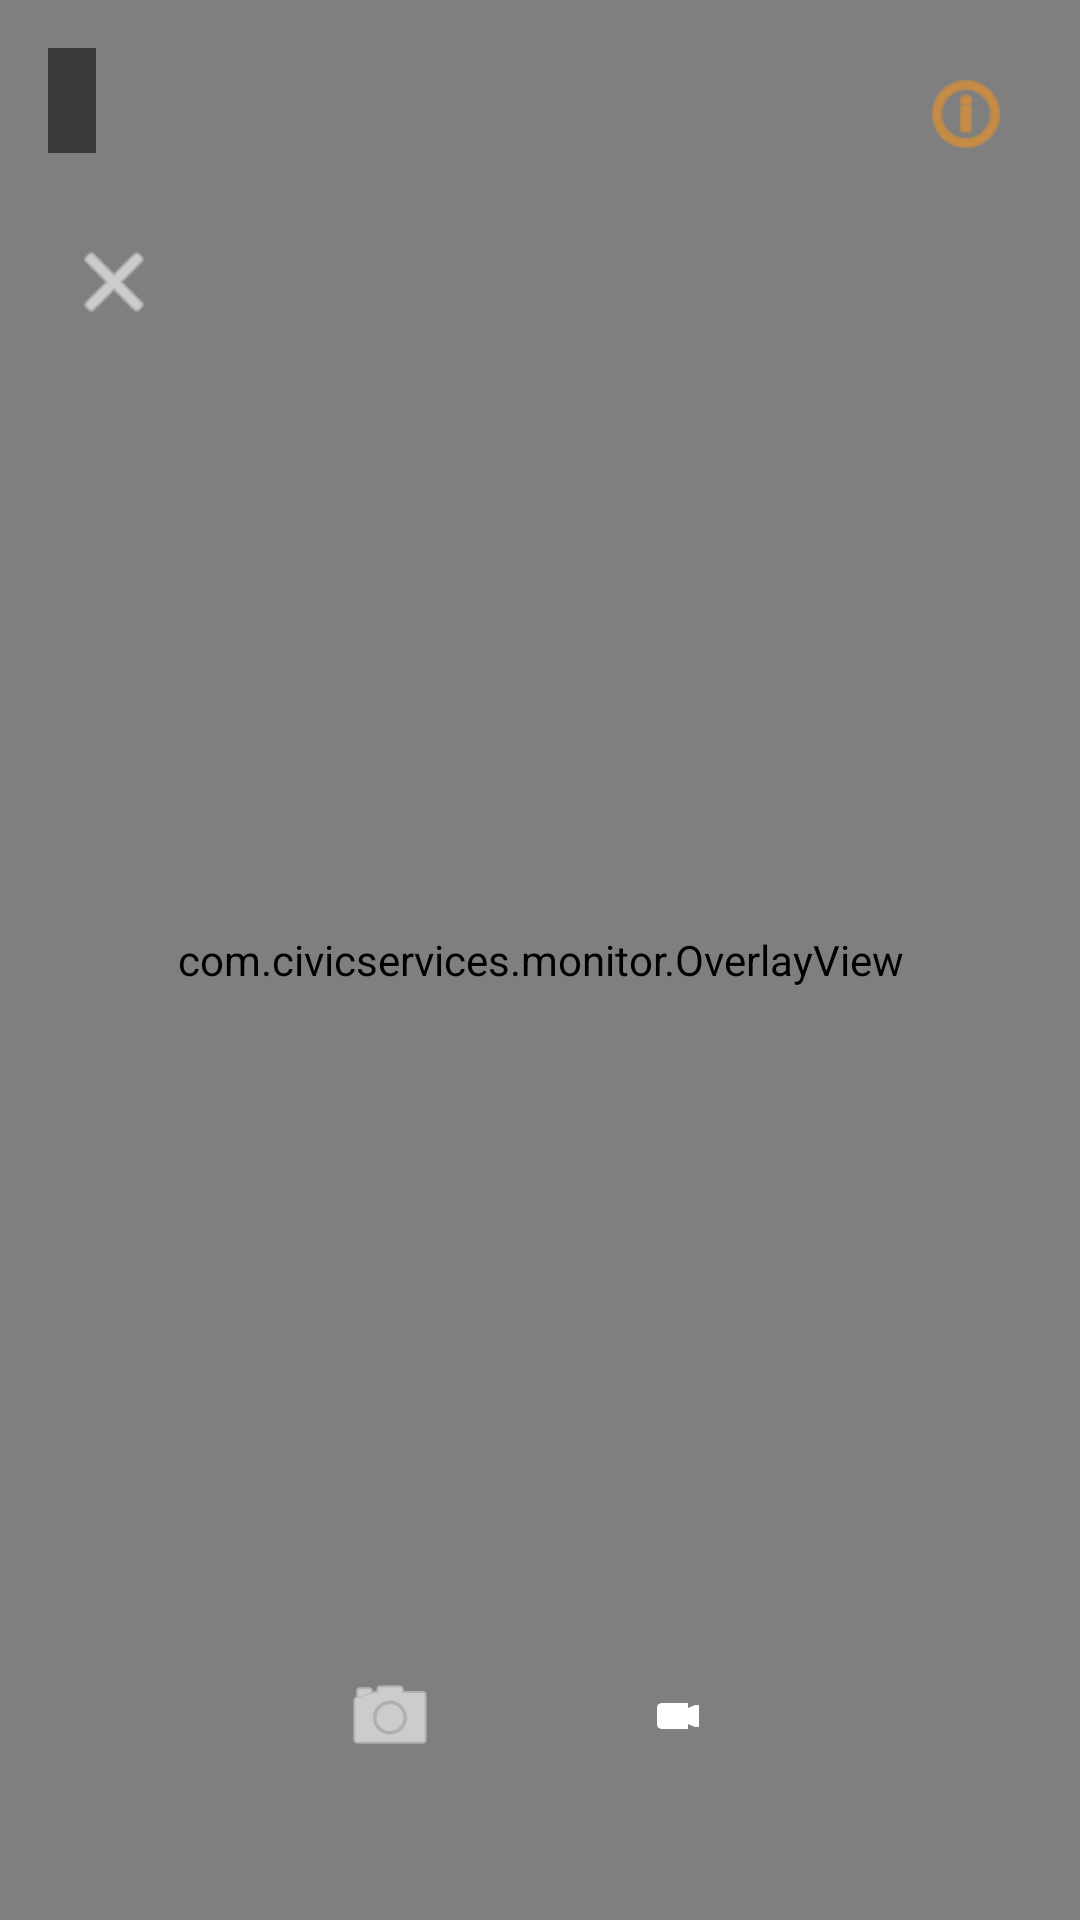

Icon bounding boxes for this 1080px×1920px phone screenshot, format Rect(x1, y1, x2, y2):
About: Rect(932, 80, 1000, 148)
Capture photo: Rect(353, 1685, 427, 1744)
Record video: Rect(657, 1703, 699, 1729)
